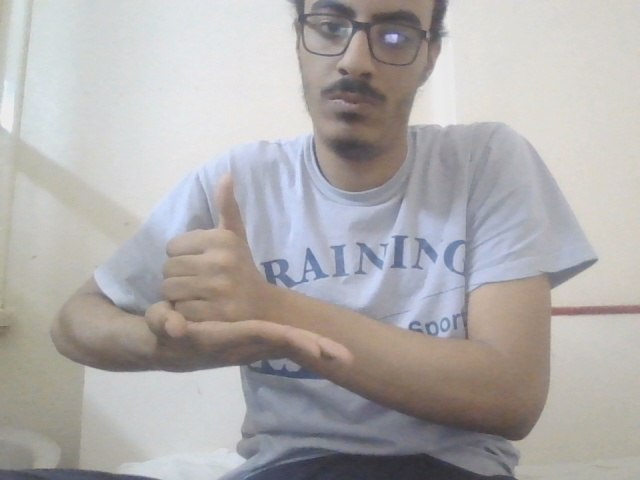Help: (141, 168, 357, 406)
